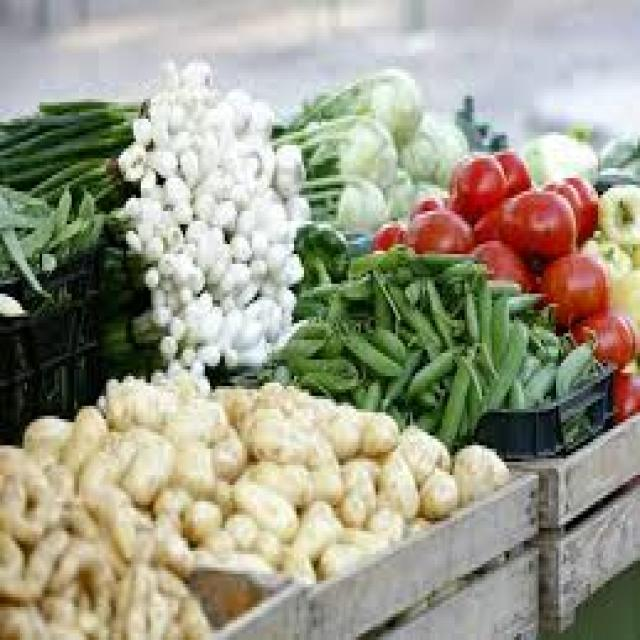organic waste: (111, 59, 306, 360), (282, 244, 479, 449), (474, 280, 590, 402), (0, 98, 138, 191), (0, 181, 91, 310), (96, 205, 166, 372), (272, 63, 420, 138), (269, 112, 393, 185), (524, 128, 637, 184), (74, 455, 136, 554), (497, 184, 573, 260), (44, 538, 114, 614), (536, 251, 606, 323), (296, 168, 386, 224), (0, 525, 67, 597), (477, 310, 524, 412), (400, 109, 462, 185), (444, 148, 506, 221), (291, 218, 351, 290), (232, 478, 299, 541), (334, 313, 400, 373), (467, 234, 536, 290), (118, 442, 176, 505), (153, 567, 205, 637), (240, 406, 309, 458), (0, 468, 47, 544), (568, 307, 630, 363), (380, 165, 442, 221), (590, 175, 638, 247), (403, 340, 462, 396), (373, 445, 418, 518), (450, 442, 509, 495), (440, 356, 472, 452), (578, 231, 630, 290), (541, 175, 583, 247), (0, 438, 49, 498), (405, 208, 472, 251), (242, 455, 309, 498), (455, 89, 504, 145), (338, 452, 386, 508), (158, 409, 200, 469), (292, 498, 336, 554), (398, 422, 447, 472), (173, 436, 212, 498), (412, 462, 454, 518), (561, 172, 598, 234), (128, 528, 148, 637), (104, 554, 131, 634), (153, 528, 195, 577), (146, 570, 175, 636), (316, 534, 366, 571), (131, 376, 168, 426), (596, 128, 638, 172), (294, 383, 334, 429), (101, 426, 141, 472), (472, 271, 494, 353), (487, 284, 509, 366), (324, 396, 358, 449), (72, 400, 111, 446), (178, 498, 222, 538), (148, 485, 193, 524), (279, 541, 319, 584), (492, 145, 529, 191), (356, 409, 395, 452), (608, 357, 637, 412), (610, 264, 638, 320), (304, 426, 338, 472), (22, 409, 74, 439), (158, 363, 200, 399), (52, 462, 79, 518), (193, 392, 227, 436), (363, 501, 403, 538), (212, 426, 240, 478), (467, 198, 504, 237), (364, 317, 401, 356), (334, 524, 386, 551), (218, 383, 255, 419), (583, 168, 638, 192), (0, 524, 22, 580), (222, 508, 257, 541), (104, 380, 131, 422), (336, 485, 366, 521), (0, 597, 27, 634), (195, 528, 232, 554), (336, 264, 371, 290), (311, 462, 336, 498), (618, 306, 638, 349), (255, 380, 294, 402), (210, 475, 232, 511), (366, 221, 405, 241), (252, 531, 277, 558), (413, 194, 430, 204)
